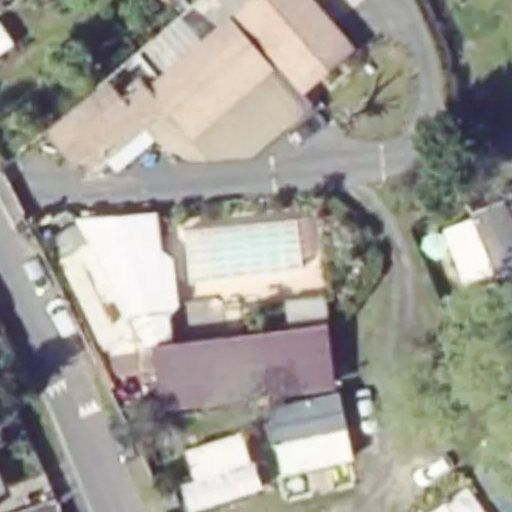pool: (207, 228, 304, 256)
